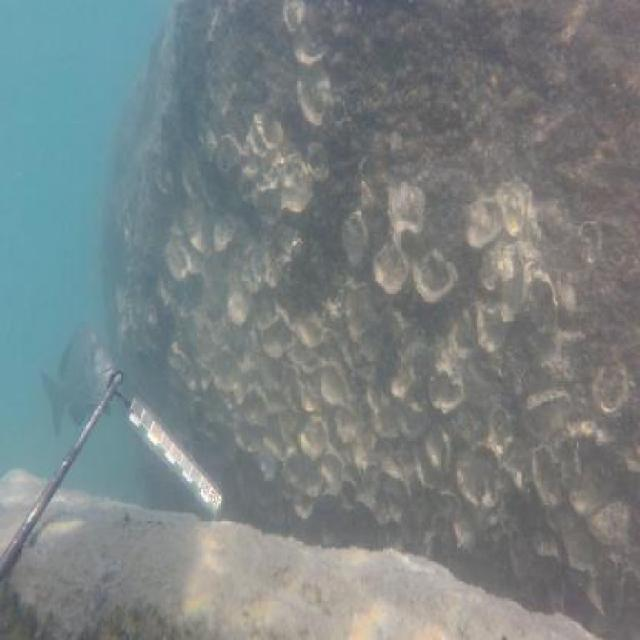acanthopagrus_palmaris: (40, 315, 115, 437)
